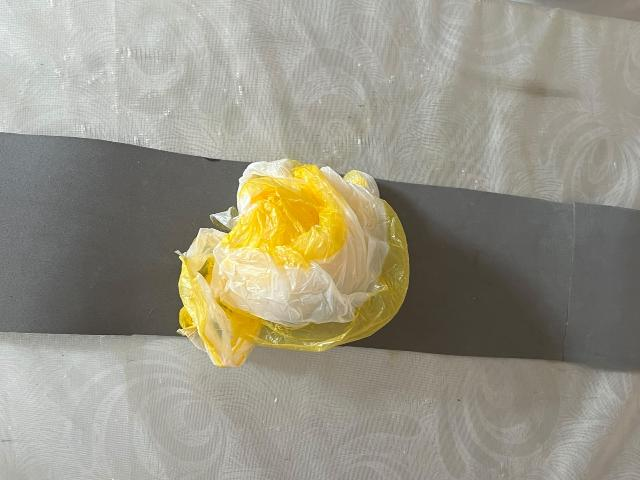LDPE: (155, 139, 429, 388)
